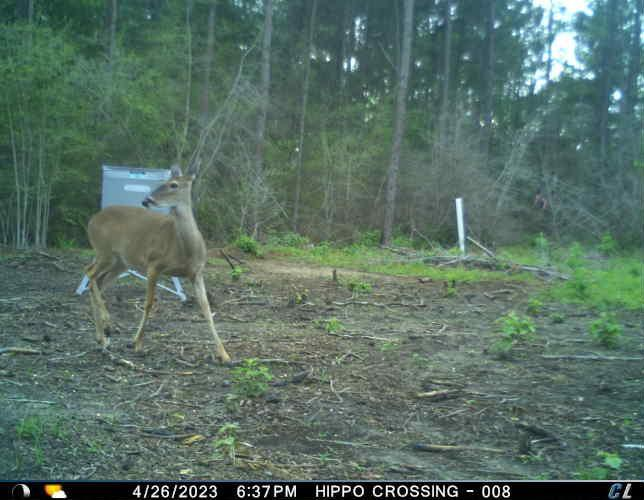Deer: (73, 152, 237, 374)
